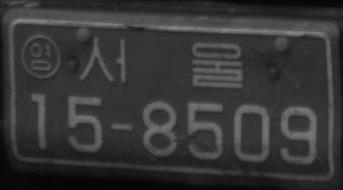-: (109, 119, 136, 134)
0: (232, 102, 271, 163)
1: (23, 93, 57, 148)
5: (65, 94, 103, 153), (186, 101, 224, 160)
8: (140, 100, 178, 158)
9: (279, 105, 318, 165)
서울_D: (78, 36, 244, 86)
영: (20, 33, 61, 80)
